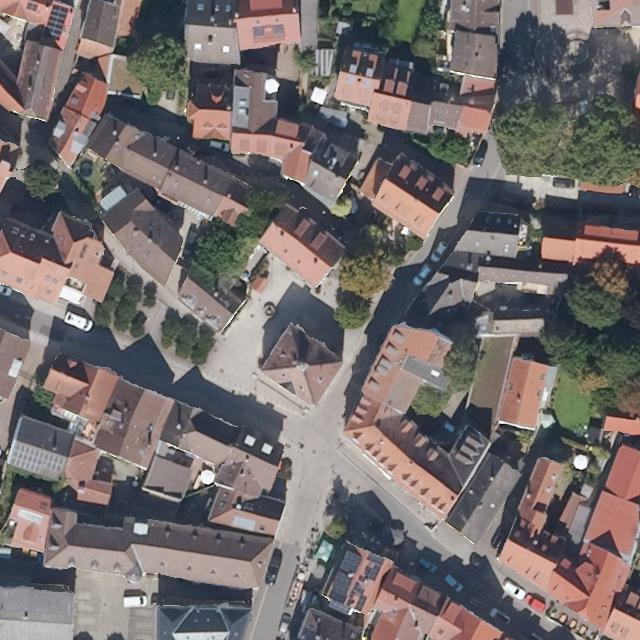PV: (324, 547, 365, 608), (4, 440, 68, 477), (363, 551, 388, 584), (12, 504, 48, 526), (352, 581, 369, 613), (301, 625, 319, 639)
